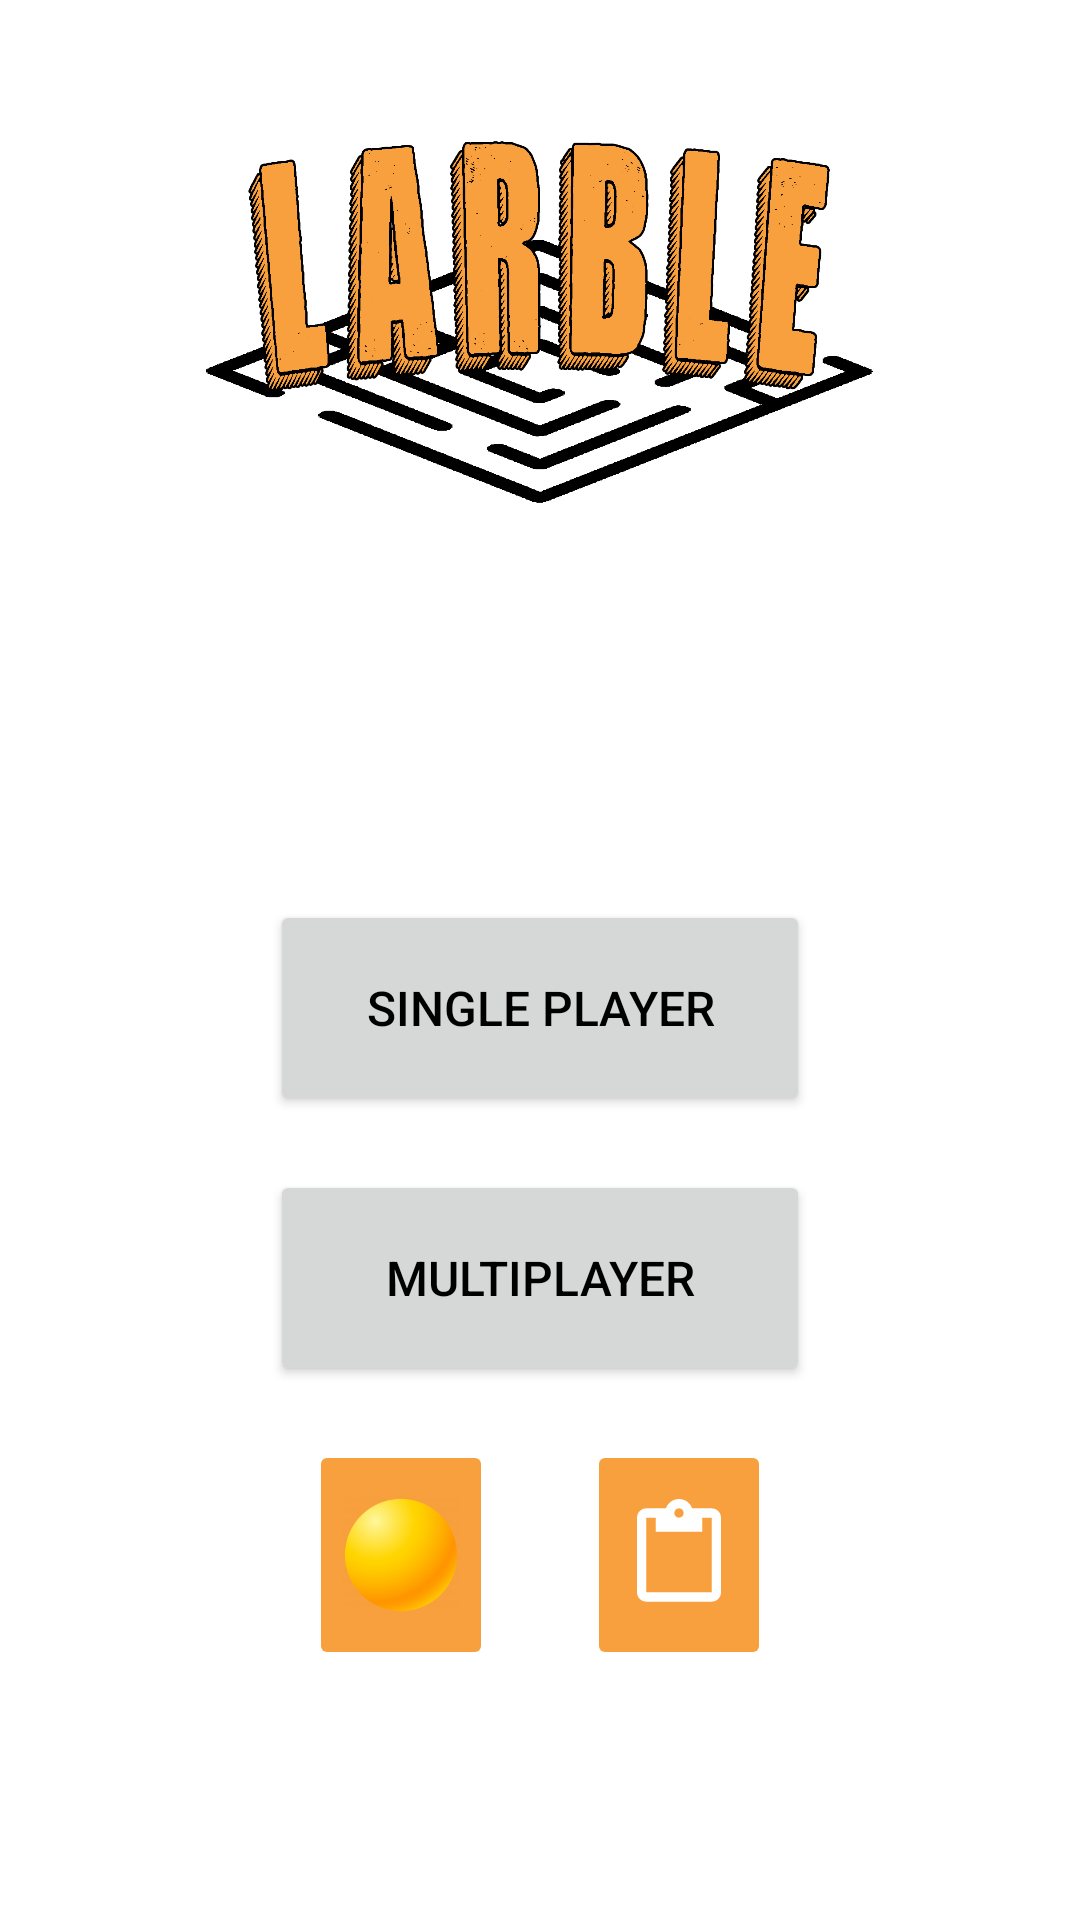

Screen size 1080 x 1920. Icon name, then its box in pixels as (x1=x1, y1=y1, x2=x2, y2=y2):
Scoreboard: (x1=599, y1=1458, x2=759, y2=1652)
